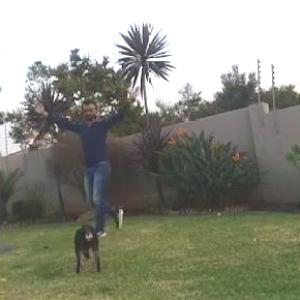takeoff: (31, 67, 132, 248)
